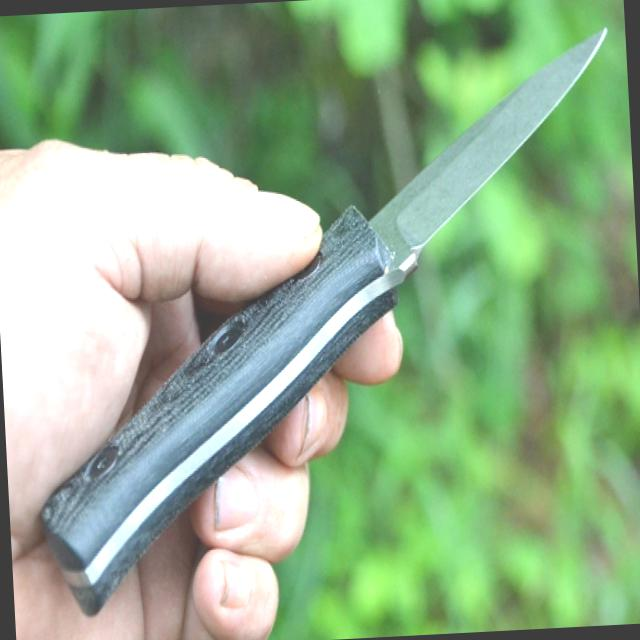knife: (6, 13, 639, 626)
